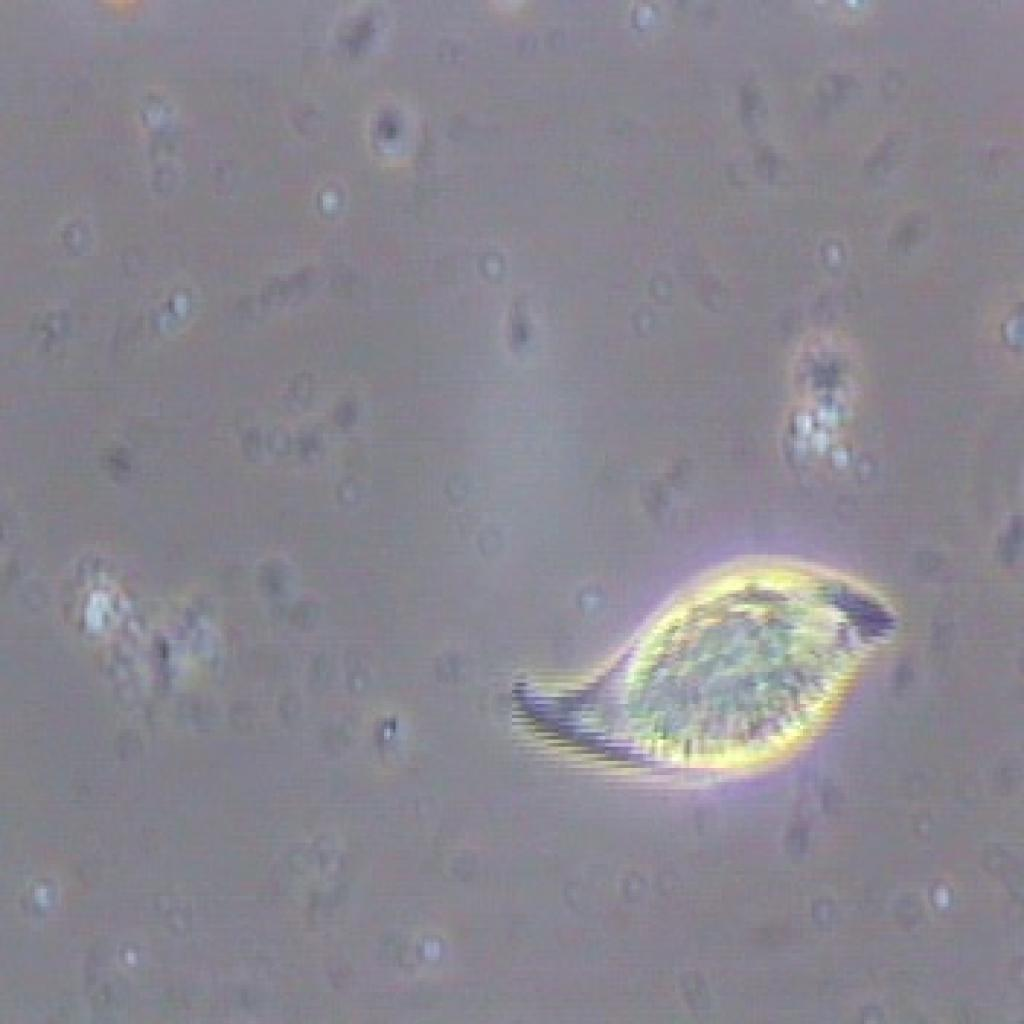Pristina: (496, 510, 903, 816)
